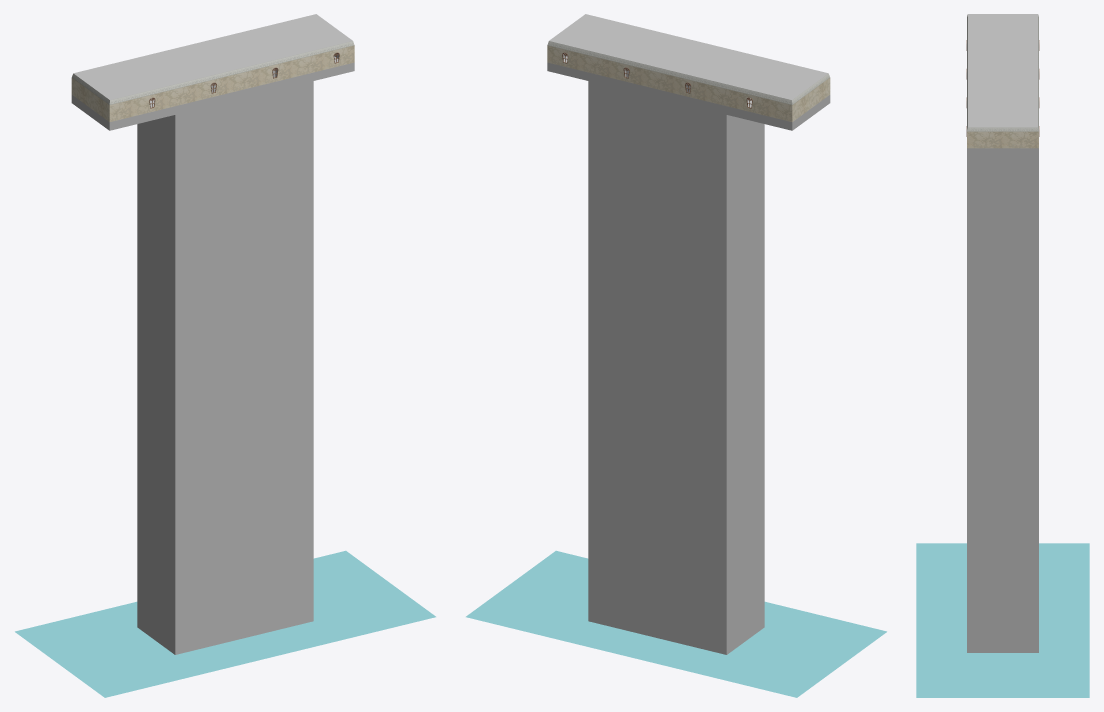
File: Map2d.obj
The picture shows the model from 3 angles, left to right: view 1: azimuth 30°, elevation 25°; view 2: azimuth 150°, elevation 25°; view 3: azimuth 270°, elevation 25°; orthographic projection. The views are drawn at different scales.
Size of the model in its own units: 80.96 by 133 by 38.33.
